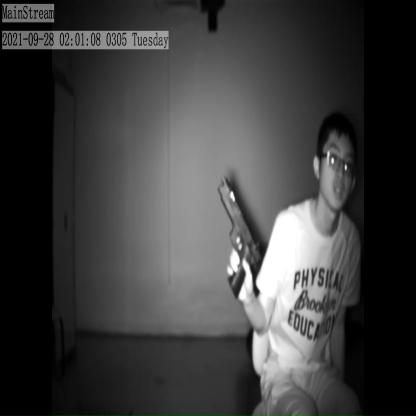weapon: (216, 170, 263, 301)
